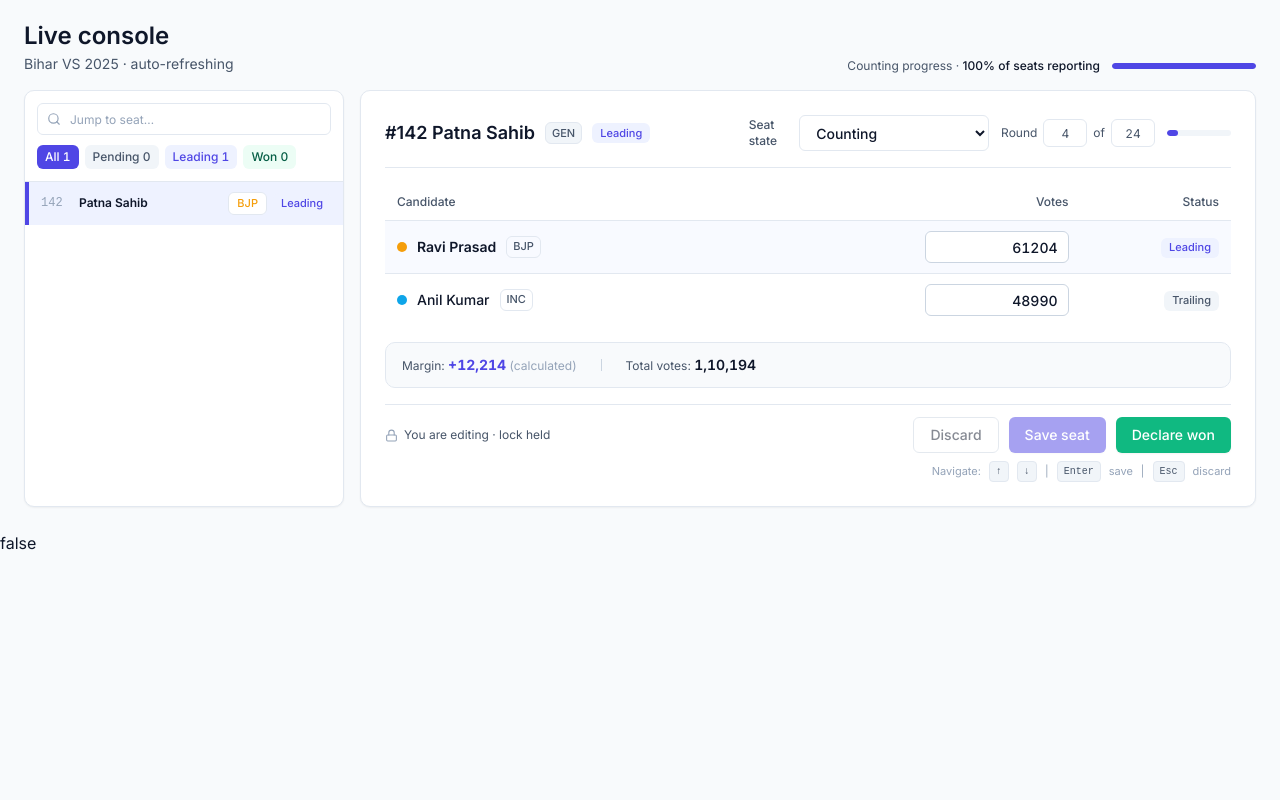
Scenario: LiveConsole page › Declare won asks first; cancel saves nothing, confirming declares the leader and saves
This screenshot has width=1280, height=800.
Click the button "Declare won": {"x": 1173, "y": 435} [1116,417,1231,453]
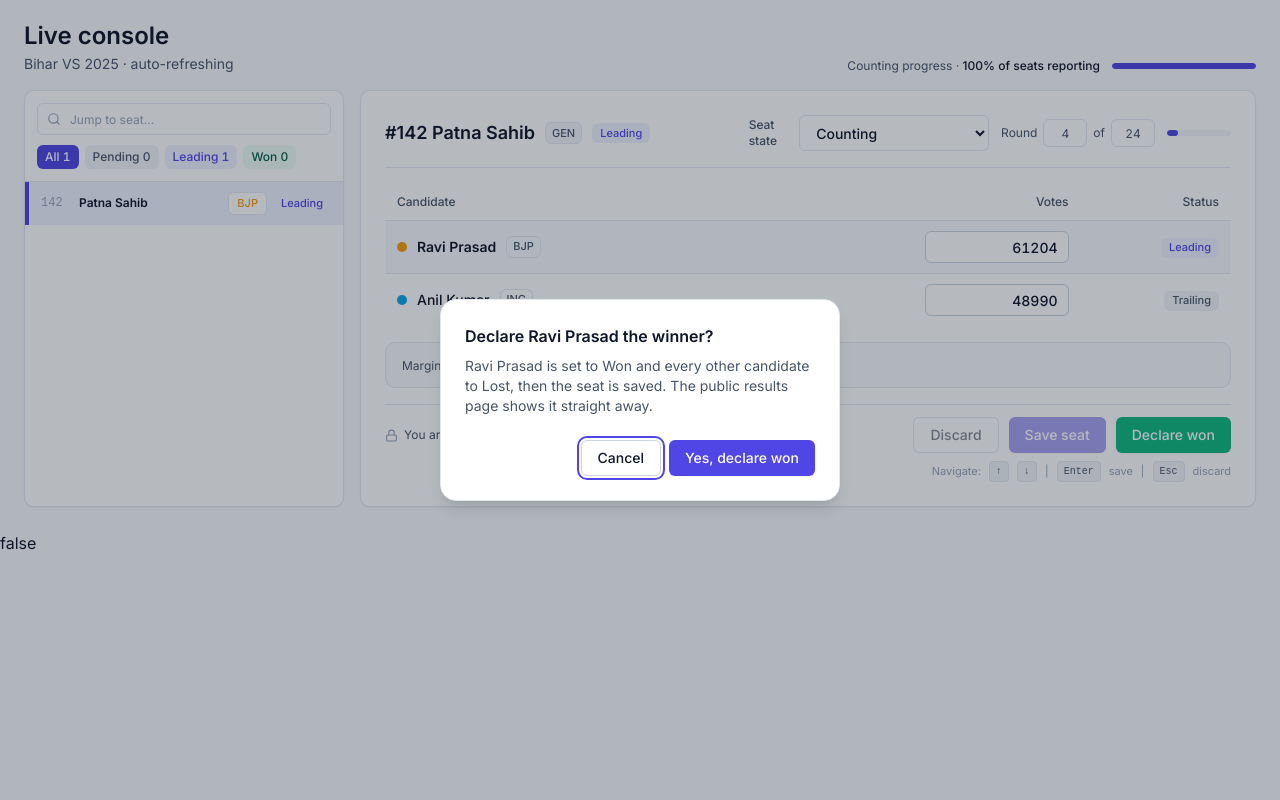
Click the button "Cancel": {"x": 621, "y": 458} [581,440,661,476]
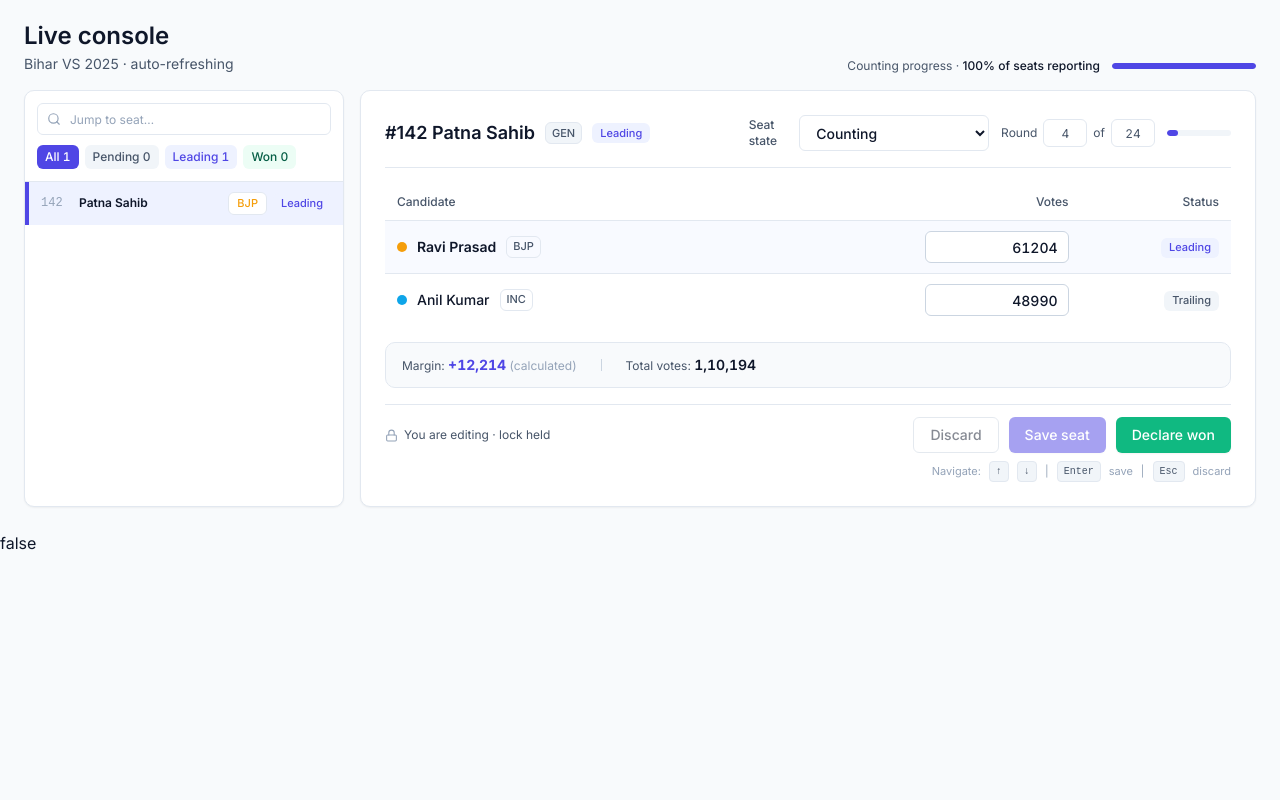
Expected: the dialog is gone
Click the button "Declare won": {"x": 1173, "y": 435} [1116,417,1231,453]
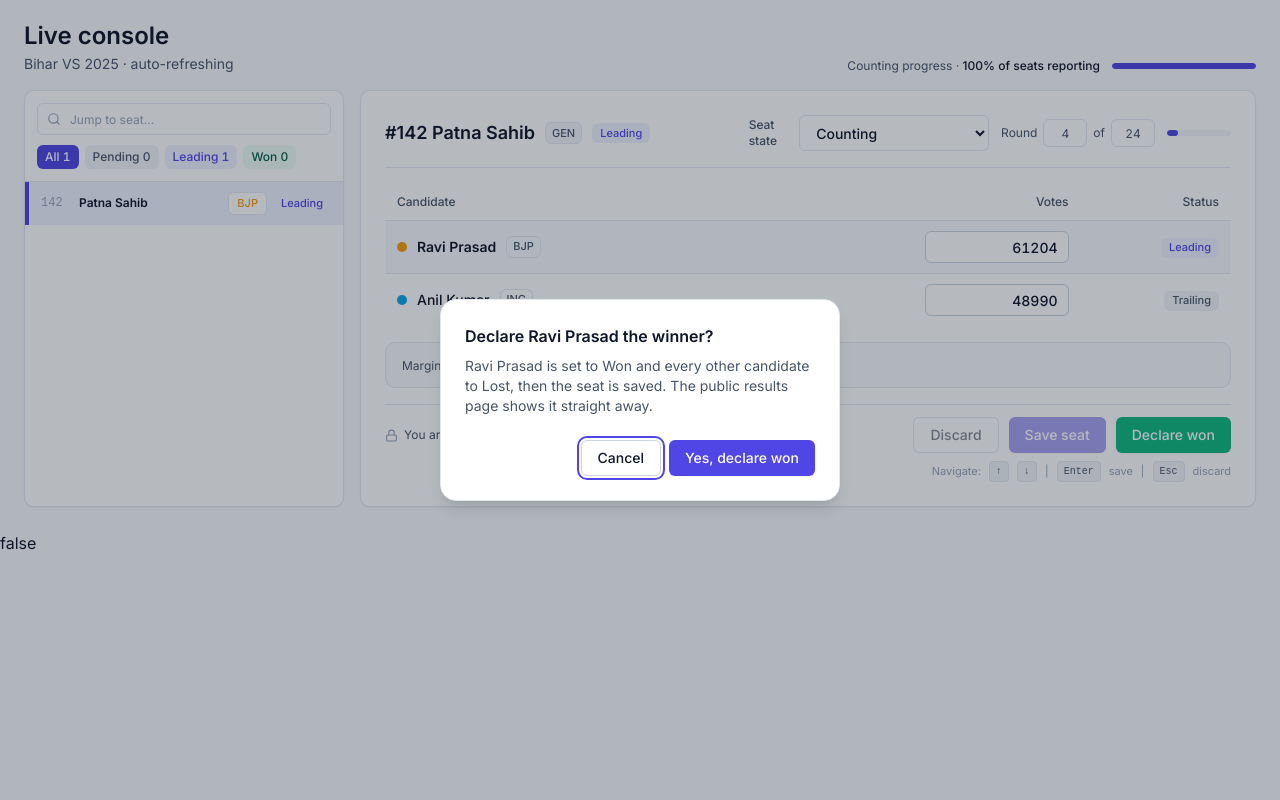
Click the button "Yes, declare won": {"x": 742, "y": 458} [669,440,815,476]
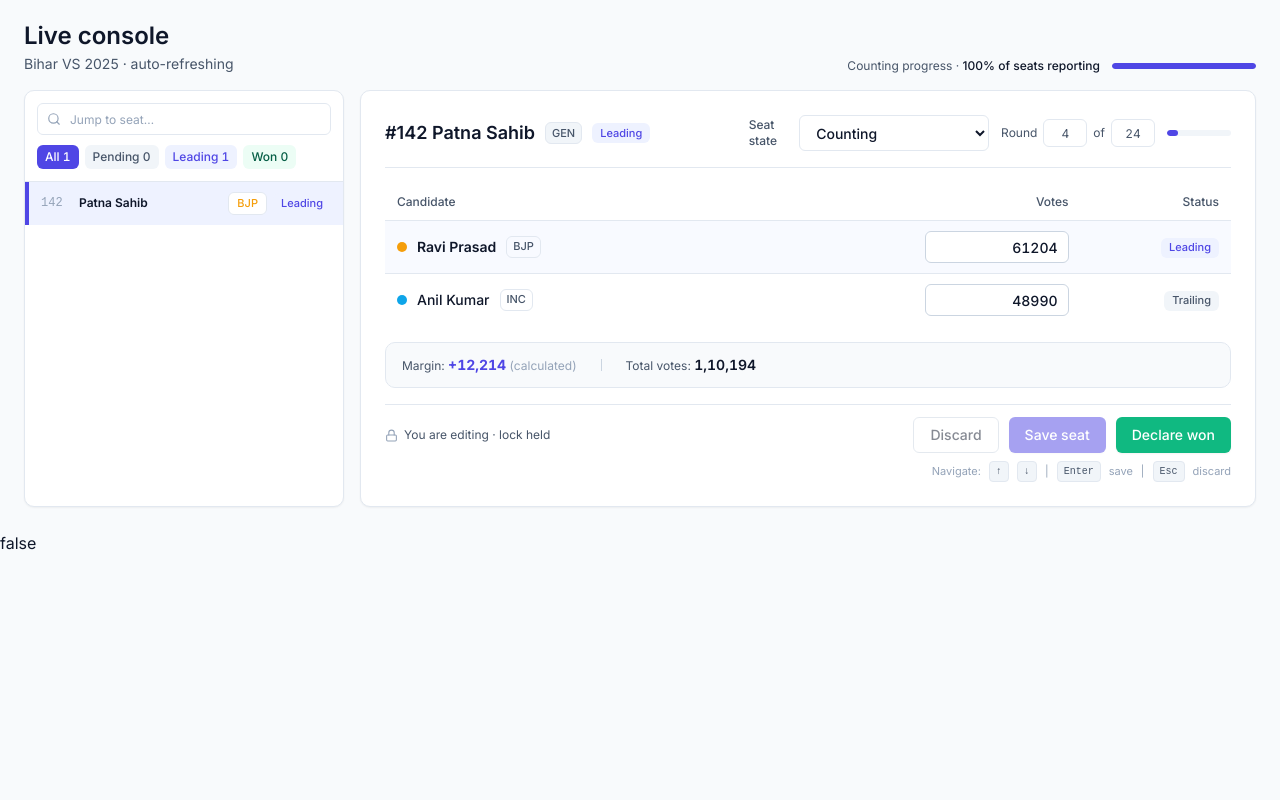
Expected: the dialog is gone
